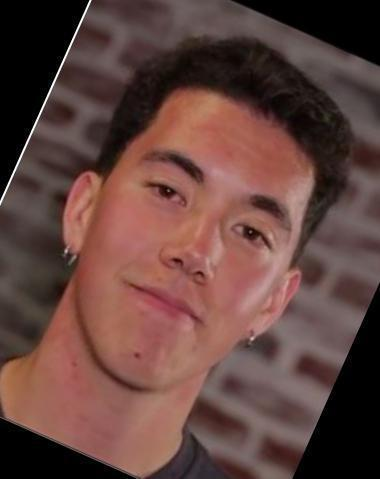Drunk: (108, 101, 284, 374)
